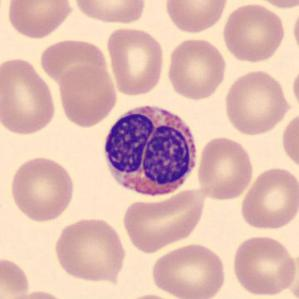Eosinophil: (99, 98, 202, 203)
RBC: (119, 188, 210, 254), (51, 215, 128, 284), (0, 55, 59, 138), (7, 154, 76, 224), (221, 68, 292, 136), (149, 241, 228, 299), (229, 233, 298, 297), (105, 25, 166, 97), (164, 36, 228, 101), (55, 63, 118, 129), (220, 2, 286, 64), (195, 134, 255, 202), (238, 165, 298, 232), (38, 36, 110, 86), (5, 0, 75, 40), (162, 0, 230, 35), (70, 0, 148, 26), (0, 254, 32, 299), (279, 109, 298, 173), (4, 288, 72, 299), (115, 291, 185, 299), (290, 3, 299, 60), (250, 0, 298, 10), (290, 63, 299, 115)
